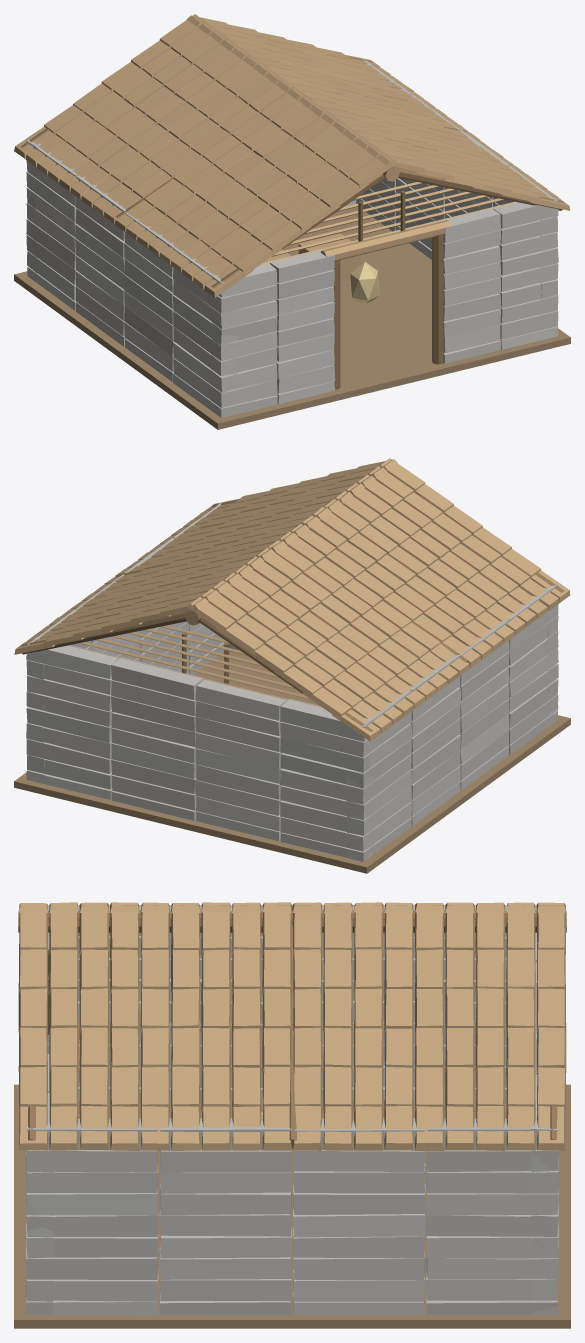
The model's file is building_warehouse_complete.glb.
3 renders of one model, top to bottom at view 1: azimuth 30°, elevation 25°; view 2: azimuth 150°, elevation 25°; view 3: azimuth 270°, elevation 25°, orthographic. The views are drawn at different scales.
Parts seen in each view (by area): view 1: building_warehouse_complete; view 2: building_warehouse_complete; view 3: building_warehouse_complete.
Part boxes in pixels (bbox=[...]): building_warehouse_complete: bbox=[14, 14, 570, 429]; building_warehouse_complete: bbox=[14, 458, 570, 873]; building_warehouse_complete: bbox=[14, 902, 570, 1328].
Size of the model in its own units: 5.91 by 3.56 by 5.85.
